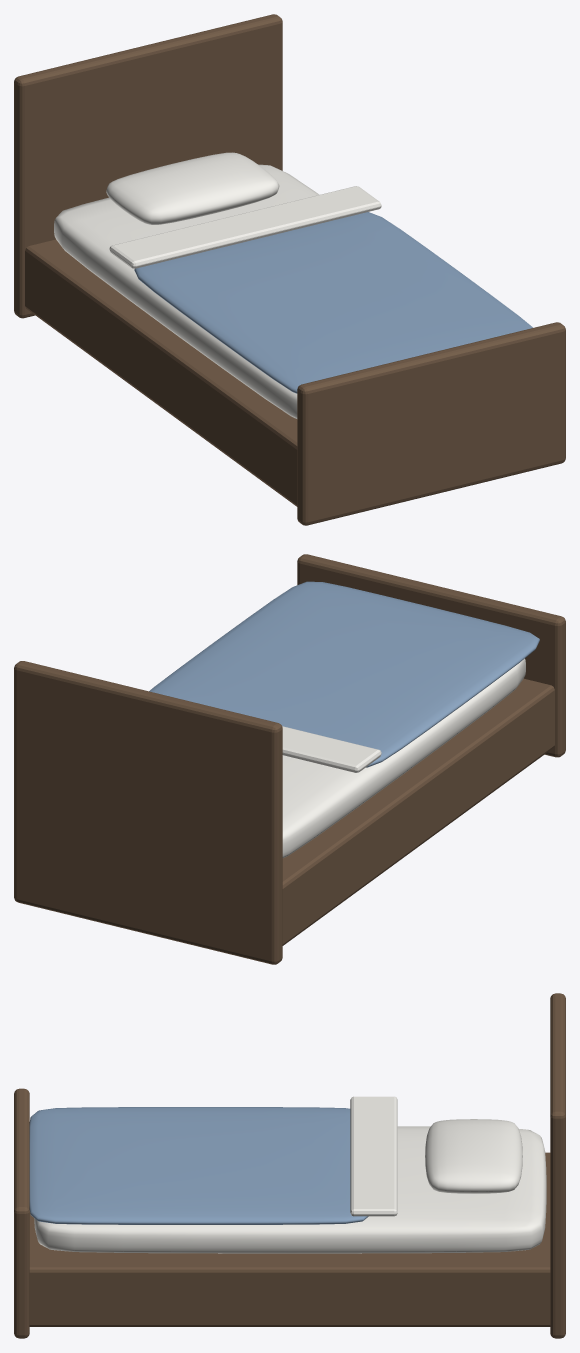
The model's file is bed_kid.glb.
3 renders of one model, top to bottom at view 1: azimuth 30°, elevation 25°; view 2: azimuth 150°, elevation 25°; view 3: azimuth 270°, elevation 25°, orthographic. The views are drawn at different scales.
Visible parts, largest first — view 1: blanket, head, foot, frame, mattress, pillow, fold; view 2: head, blanket, frame, mattress, foot, fold; view 3: frame, blanket, mattress, pillow, fold, head, foot.
Boxes of the visible parts, x1=… form: blanket: x1=134, y1=212, x2=532, y2=393; head: x1=14, y1=14, x2=282, y2=318; foot: x1=297, y1=322, x2=565, y2=525; frame: x1=25, y1=239, x2=297, y2=506; mattress: x1=54, y1=164, x2=319, y2=418; pillow: x1=106, y1=152, x2=279, y2=224; fold: x1=109, y1=186, x2=381, y2=268; head: x1=14, y1=661, x2=282, y2=964; blanket: x1=149, y1=581, x2=539, y2=767; frame: x1=282, y1=678, x2=554, y2=945; mattress: x1=282, y1=658, x2=525, y2=857; foot: x1=297, y1=554, x2=565, y2=757; fold: x1=282, y1=726, x2=381, y2=772; frame: x1=29, y1=1152, x2=550, y2=1326; blanket: x1=29, y1=1107, x2=368, y2=1224; mattress: x1=34, y1=1126, x2=546, y2=1253; pillow: x1=425, y1=1119, x2=522, y2=1193; fold: x1=350, y1=1096, x2=397, y2=1216; head: x1=550, y1=993, x2=565, y2=1338; foot: x1=14, y1=1088, x2=29, y2=1338.
Size of the model in its own units: 1.1 by 0.95 by 2.1.
